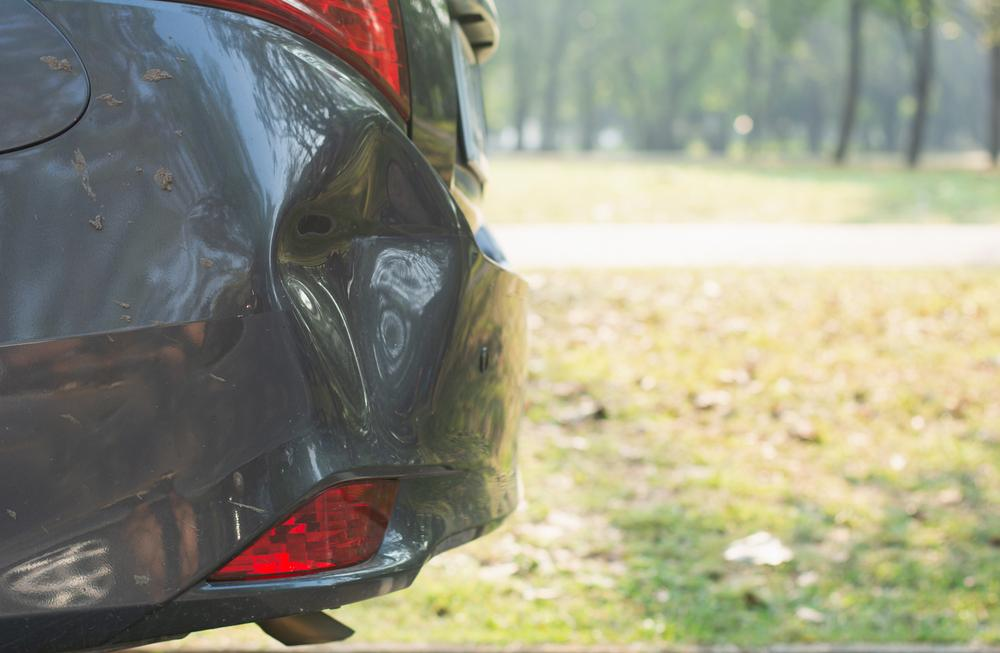dent: (269, 107, 462, 460)
